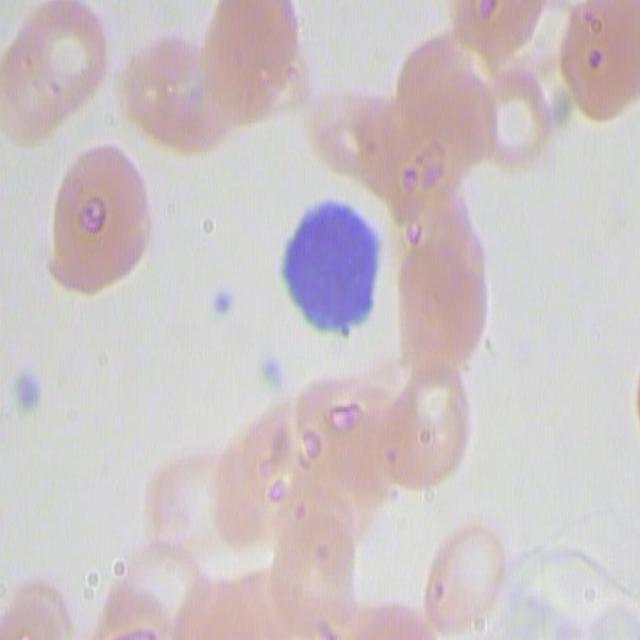RBC: (226, 448, 399, 594), (307, 379, 436, 515), (199, 5, 320, 145), (4, 8, 126, 146), (51, 150, 157, 308), (398, 38, 492, 200), (299, 92, 419, 217), (399, 194, 484, 363), (560, 0, 640, 167), (127, 41, 245, 154), (284, 572, 466, 640), (391, 362, 489, 476), (120, 576, 264, 640), (433, 3, 548, 81), (10, 563, 91, 640), (154, 480, 244, 548), (445, 536, 507, 634)
WBC: (286, 193, 379, 358)
platelets: (209, 286, 237, 321), (14, 367, 37, 398), (258, 360, 282, 388)
